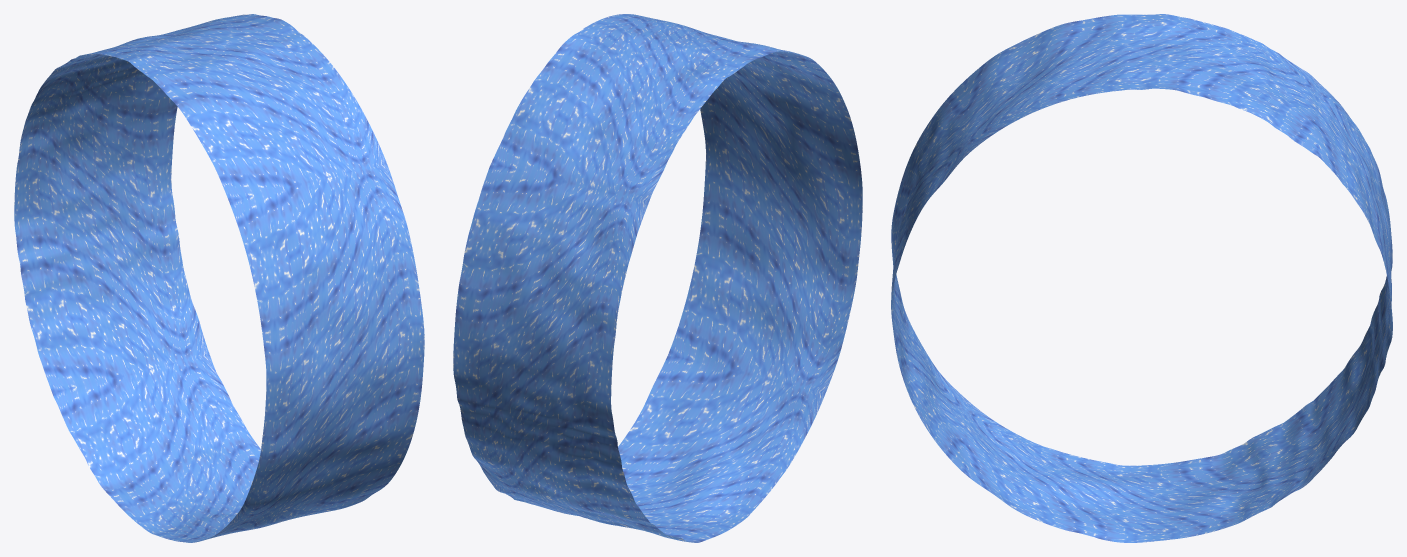
File: nami_shiage_04.fbx
3 views of the same model, side by side, from view 1: azimuth 30°, elevation 25°; view 2: azimuth 150°, elevation 25°; view 3: azimuth 270°, elevation 25° (orthographic).
Parts seen in each view (by area): view 1: pCylinder26; view 2: pCylinder26; view 3: pCylinder26.
Boxes of the visible parts, x1=… form: pCylinder26: x1=14, y1=14, x2=424, y2=542; pCylinder26: x1=453, y1=14, x2=862, y2=542; pCylinder26: x1=891, y1=14, x2=1392, y2=542.
Size of the model in its own units: 489 by 1353 by 1355.
1 material, 1 textured.
